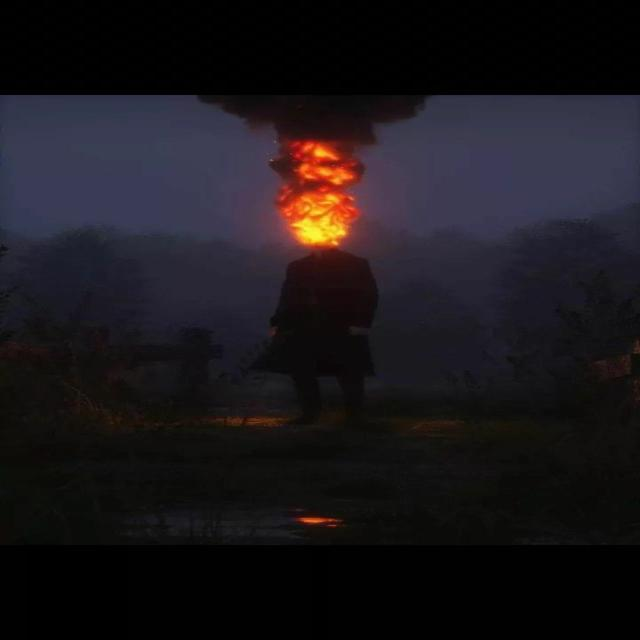Fire: (271, 130, 405, 246)
